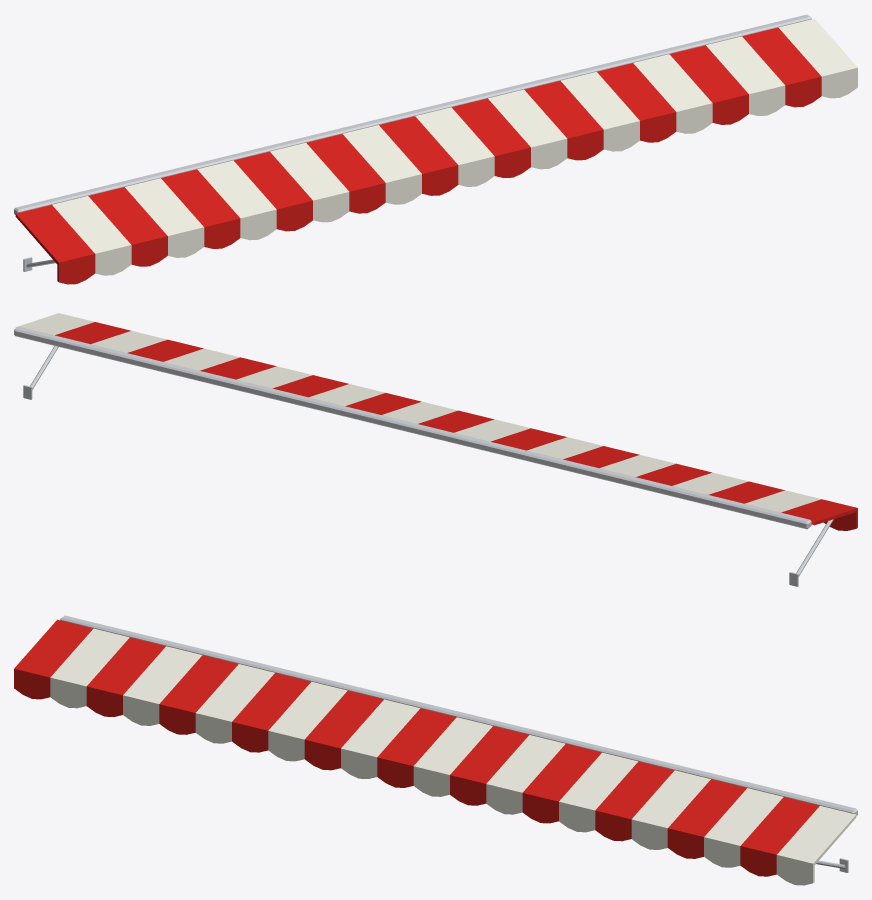
The model's file is toldo_frente_grande.glb.
3 views of the same model, one above another, from view 1: azimuth 30°, elevation 25°; view 2: azimuth 150°, elevation 25°; view 3: azimuth 330°, elevation 25° (orthographic).
Parts seen in each view (by area): view 1: pieza_tramo, pieza_punta_izq, pieza_punta_der; view 2: pieza_tramo, pieza_punta_izq, pieza_punta_der; view 3: pieza_tramo, pieza_punta_der, pieza_punta_izq.
Part boxes in pixels (bbox=[...]): pieza_tramo: bbox=[84, 31, 785, 266]; pieza_punta_izq: bbox=[14, 191, 131, 284]; pieza_punta_der: bbox=[738, 14, 857, 107]; pieza_tramo: bbox=[83, 331, 784, 512]; pieza_punta_izq: bbox=[737, 490, 857, 586]; pieza_punta_der: bbox=[14, 313, 130, 399]; pieza_tramo: bbox=[86, 632, 787, 867]; pieza_punta_der: bbox=[740, 792, 857, 885]; pieza_punta_izq: bbox=[14, 615, 133, 708].
Bounding box in the file's own units: 3.4 × 0.27 × 0.354.
